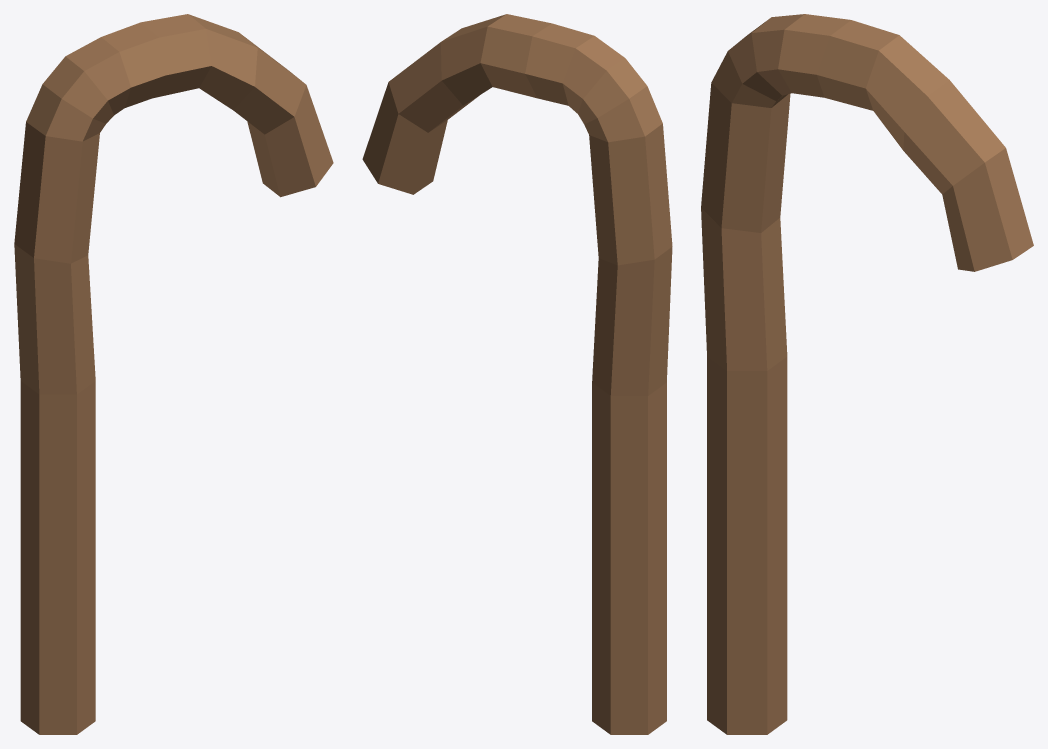
The model's file is Part_ShellFuse_3_inch_01.fbx.
3 renders of one model, left to right at view 1: azimuth 30°, elevation 25°; view 2: azimuth 150°, elevation 25°; view 3: azimuth 330°, elevation 25°, orthographic. The views are drawn at different scales.
Parts seen in each view (by area): view 1: Part_ShellFuse_3_inch_01; view 2: Part_ShellFuse_3_inch_01; view 3: Part_ShellFuse_3_inch_01.
Boxes of the visible parts, x1,y1,x2,y2 form: Part_ShellFuse_3_inch_01: [14, 14, 333, 734]; Part_ShellFuse_3_inch_01: [362, 14, 672, 734]; Part_ShellFuse_3_inch_01: [701, 14, 1033, 734].
Bounding box in the file's own units: 9.15 × 19.73 × 2.35.
